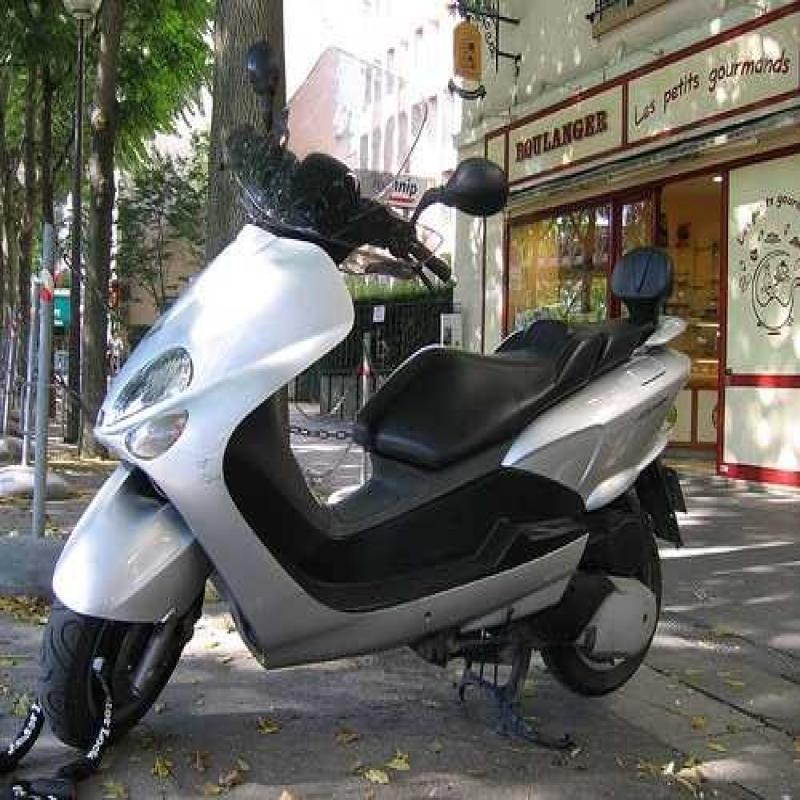bike: (36, 52, 694, 740)
